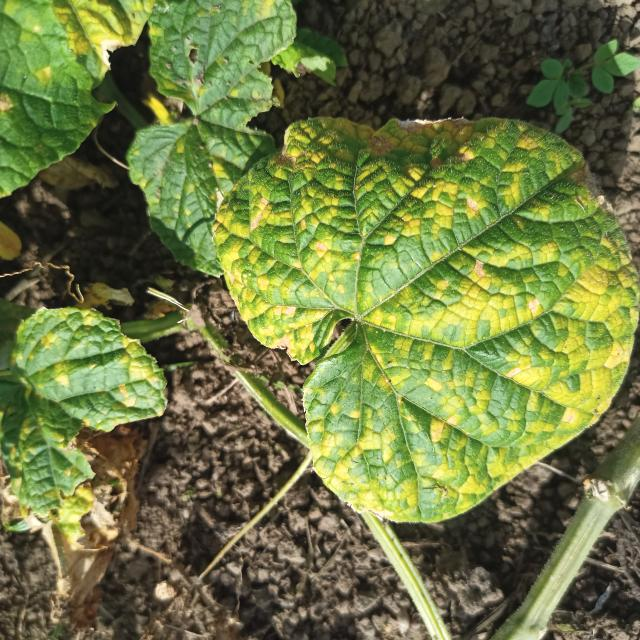disease_cucumber: (227, 109, 624, 518)
